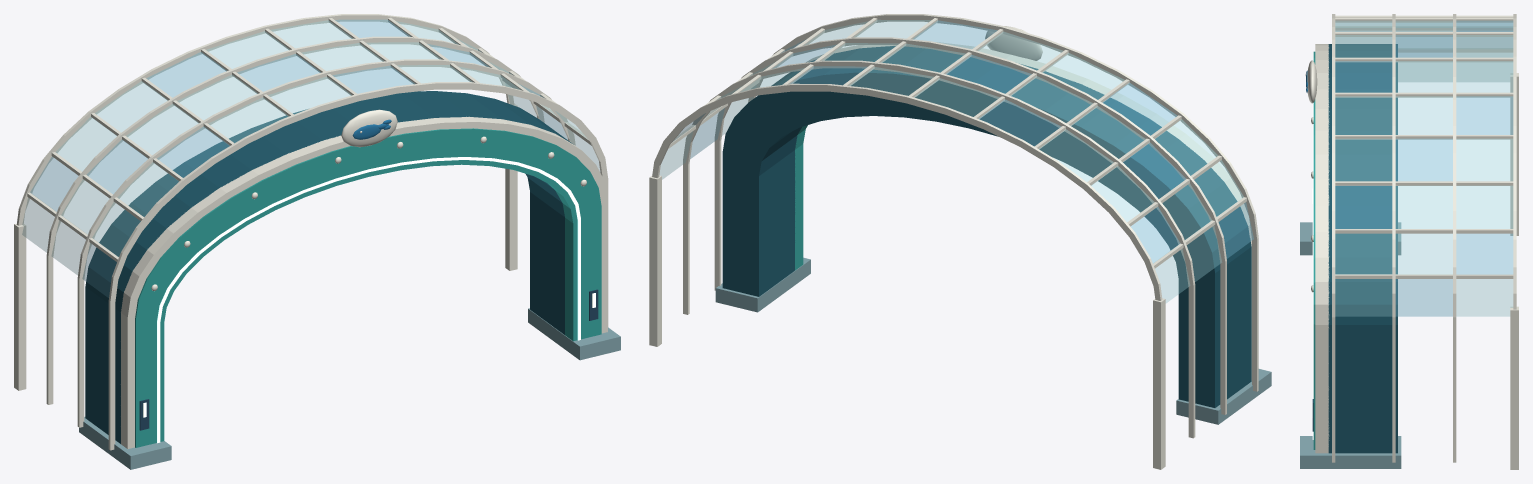
File: portal.glb
The picture shows the model from 3 angles, left to right: view 1: azimuth 30°, elevation 25°; view 2: azimuth 150°, elevation 25°; view 3: azimuth 270°, elevation 25°; orthographic projection. The views are drawn at different scales.
Visible parts, largest first — view 1: portal_White, portal_GlassA, portal_Teal, portal_TealInner, portal_GlassB, portal_BlueStone, portal_CyanLight; view 2: portal_TealInner, portal_White, portal_GlassA, portal_GlassB, portal_BlueStone, portal_Teal; view 3: portal_GlassA, portal_TealInner, portal_White, portal_GlassB, portal_BlueStone, portal_Teal, portal_CyanLight.
Part boxes in pixels (<box>): portal_White: <box>14,14,608,450</box>; portal_GlassA: <box>22,20,599,274</box>; portal_Teal: <box>135,128,601,447</box>; portal_TealInner: <box>85,91,573,443</box>; portal_GlassB: <box>30,20,567,297</box>; portal_BlueStone: <box>79,308,620,469</box>; portal_CyanLight: <box>157,157,580,443</box>; portal_TealInner: <box>722,46,1251,407</box>; portal_White: <box>649,14,1258,469</box>; portal_GlassA: <box>659,20,1243,302</box>; portal_GlassB: <box>673,20,1253,263</box>; portal_BlueStone: <box>715,257,1271,424</box>; portal_Teal: <box>795,125,807,270</box>; portal_GlassA: <box>1335,21,1513,316</box>; portal_TealInner: <box>1328,44,1397,453</box>; portal_White: <box>1305,14,1518,469</box>; portal_GlassB: <box>1335,21,1513,316</box>; portal_BlueStone: <box>1300,222,1401,468</box>; portal_Teal: <box>1313,51,1315,449</box>; portal_CyanLight: <box>1312,103,1313,439</box>.
Bounding box in the file's own units: 10.22 × 5.93 × 3.98.
